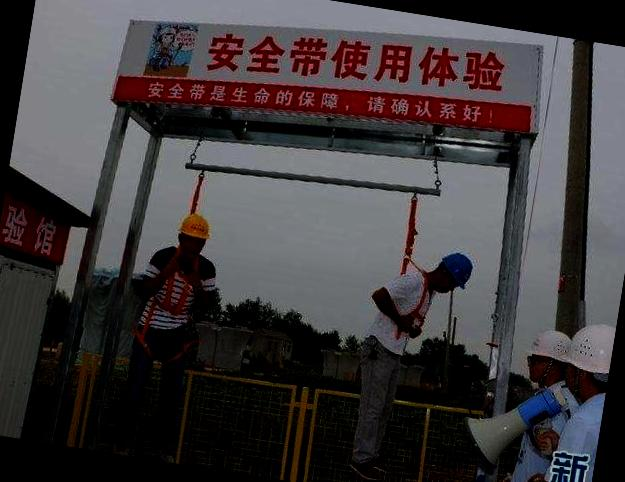helmet: (430, 247, 479, 293), (171, 209, 216, 244)
no_vest: (134, 240, 217, 349)
person: (341, 230, 476, 482), (106, 204, 229, 465)
